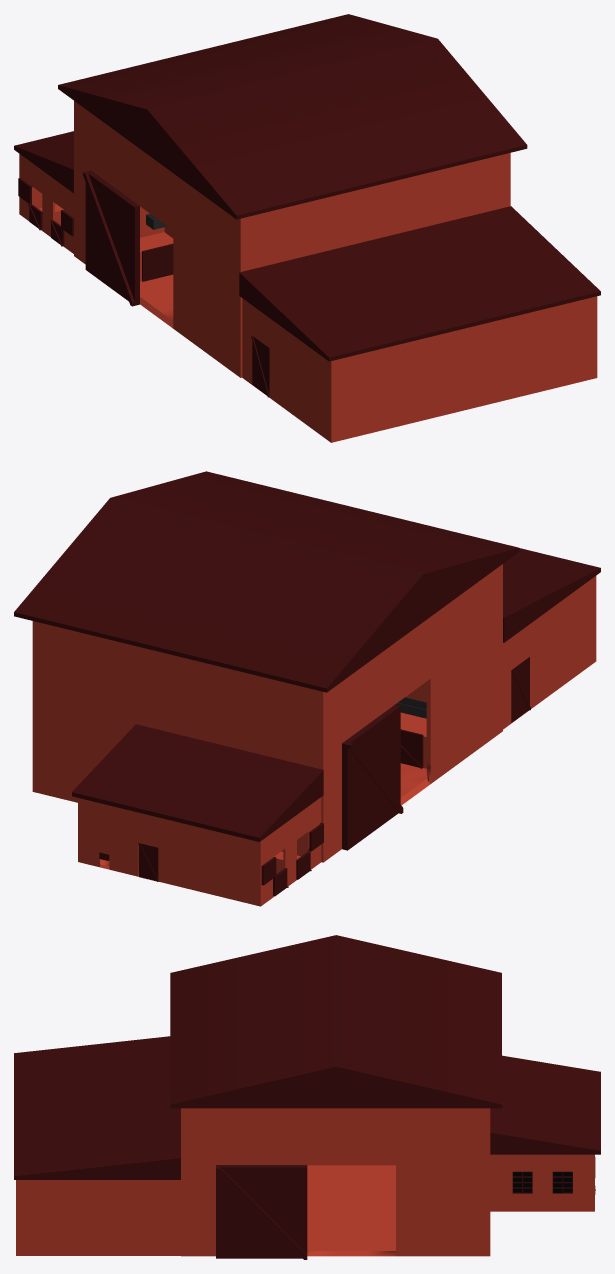
Rendered from Stall.FBX.
3 views of the same model, one above another, from view 1: azimuth 30°, elevation 25°; view 2: azimuth 150°, elevation 25°; view 3: azimuth 270°, elevation 25° (orthographic). The views are drawn at different scales.
Visible parts, largest first — view 1: MainDach, MainAussenwand, PigDach, PigsAussenwand, MainTor1, DonkeyAussenwand, ChickenDach, MainTorHorse1, PigTor11; view 2: MainDach, MainAussenwand, ChickenDach, DonkeyAussenwand, PigsAussenwand, MainTor1, ChickenAussenwand, PigDach, PigTor11, MainTorCow, ChickenTor1; view 3: MainDach, MainAussenwand, PigDach, PigsAussenwand, ChickenDach, MainTor2, ChickenAussenwand.
Boxes of the visible parts, x1=… form: MainDach: x1=58, y1=14, x2=527, y2=219; MainAussenwand: x1=74, y1=101, x2=510, y2=377; PigDach: x1=239, y1=206, x2=600, y2=361; PigsAussenwand: x1=242, y1=296, x2=597, y2=442; MainTor1: x1=83, y1=170, x2=139, y2=306; DonkeyAussenwand: x1=19, y1=154, x2=73, y2=253; ChickenDach: x1=14, y1=131, x2=73, y2=193; MainTorHorse1: x1=142, y1=243, x2=173, y2=281; PigTor11: x1=251, y1=335, x2=269, y2=397; MainDach: x1=14, y1=471, x2=519, y2=692; MainAussenwand: x1=32, y1=564, x2=502, y2=862; ChickenDach: x1=72, y1=724, x2=323, y2=841; DonkeyAussenwand: x1=176, y1=797, x2=321, y2=906; PigsAussenwand: x1=503, y1=576, x2=596, y2=729; MainTor1: x1=342, y1=705, x2=403, y2=850; ChickenAussenwand: x1=78, y1=798, x2=179, y2=886; PigDach: x1=503, y1=548, x2=600, y2=642; PigTor11: x1=511, y1=657, x2=530, y2=722; MainTorCow: x1=400, y1=729, x2=423, y2=768; ChickenTor1: x1=138, y1=843, x2=158, y2=881; MainDach: x1=170, y1=935, x2=501, y2=1108; MainAussenwand: x1=181, y1=1108, x2=490, y2=1256; PigDach: x1=14, y1=1036, x2=180, y2=1179; PigsAussenwand: x1=16, y1=1180, x2=180, y2=1255; ChickenDach: x1=490, y1=1055, x2=600, y2=1154; MainTor2: x1=216, y1=1165, x2=307, y2=1259; ChickenAussenwand: x1=490, y1=1154, x2=594, y2=1211.
Bounding box in the file's own units: 155 × 107 × 292.
